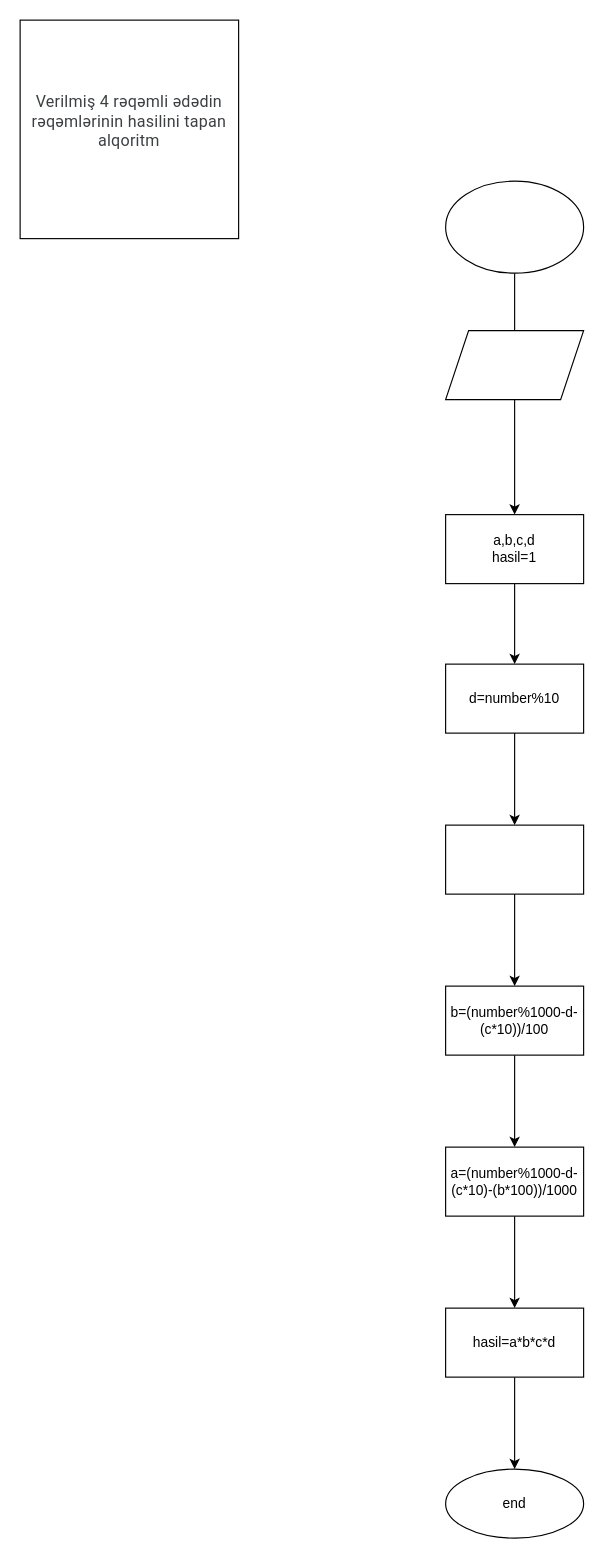
The diagram is 604 pixels wide and 1558 high, and some of its shapes have lost their labels. The shapes that lost their labels are listed below. From the top down, each one's centre as x and y in pixels, then its label:
At (x=514, y=226): "start".
At (x=514, y=364): "Number".
At (x=514, y=859): "c=(number%100-d)/10".
